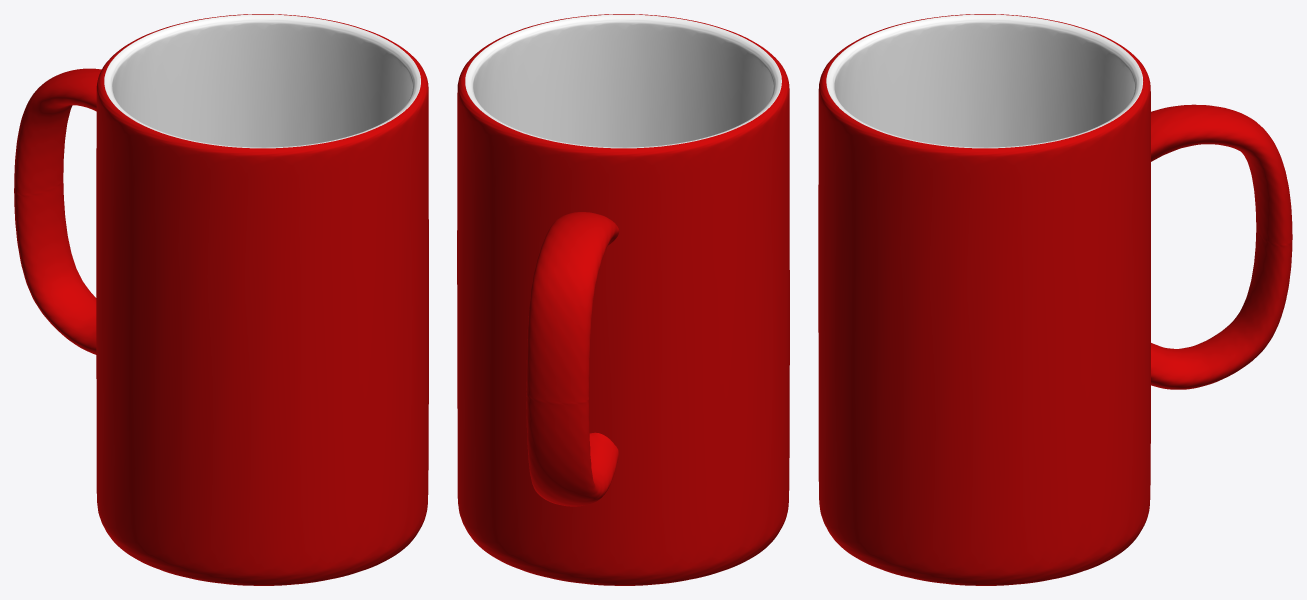
Rendered from cup_of_coffee.glb.
The picture shows the model from 3 angles, left to right: view 1: azimuth 30°, elevation 25°; view 2: azimuth 150°, elevation 25°; view 3: azimuth 270°, elevation 25°; orthographic projection.
Visible parts, largest first — view 1: Object_2, Object_3; view 2: Object_2, Object_3; view 3: Object_2, Object_3.
Boxes of the visible parts, left/top/right/bottom form: Object_2: left=14, top=14, right=428, bottom=585; Object_3: left=104, top=14, right=420, bottom=148; Object_2: left=457, top=14, right=789, bottom=585; Object_3: left=465, top=14, right=781, bottom=148; Object_2: left=818, top=14, right=1292, bottom=585; Object_3: left=826, top=14, right=1142, bottom=148.
Bounding box in the file's own units: 0.7883 × 1.15 × 1.12.
